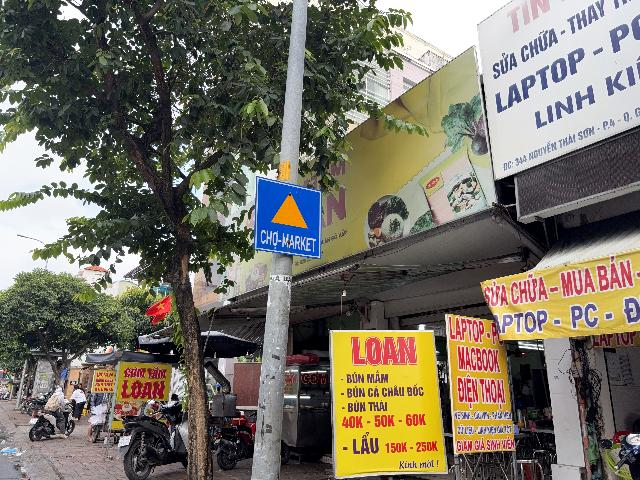khu-vuc-cho-phia-truoc: (253, 175, 322, 259)
